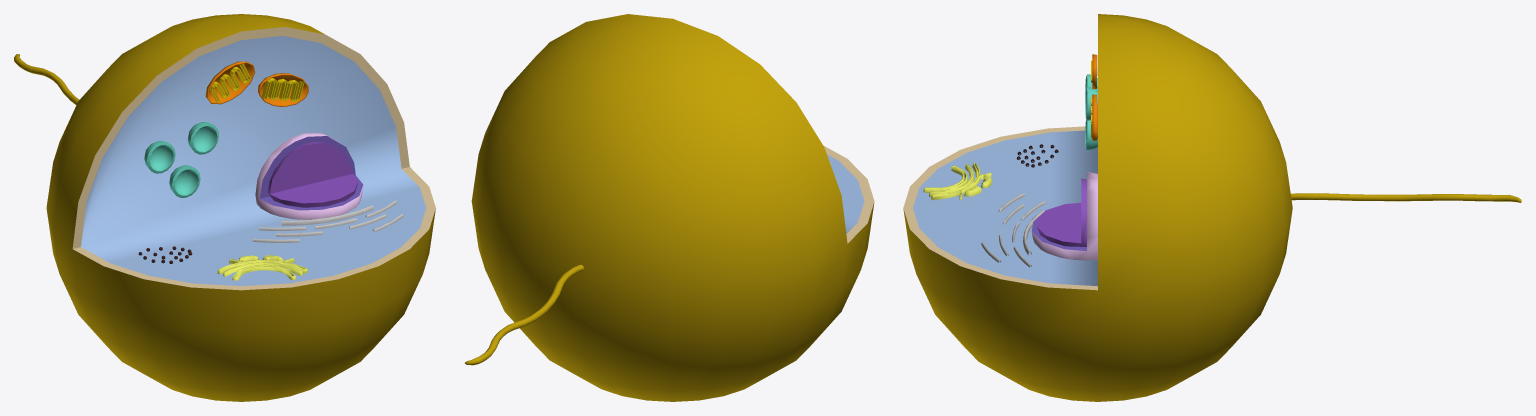
Rendered from VR27_animal cell.fbx.
3 renders of one model, left to right at view 1: azimuth 30°, elevation 25°; view 2: azimuth 150°, elevation 25°; view 3: azimuth 270°, elevation 25°, orthographic. The views are drawn at different scales.
Parts seen in each view (by area): view 1: Membrana Celular, group_4_ID2442, Mitochondria.041_ID2505.001, Vacuole.006_ID1968, Endoplasmatic reticukum, Golgi_Apparatus.005_ID2373; view 2: Membrana Celular; view 3: Membrana Celular, group_4_ID2442, Golgi_Apparatus.005_ID2373, Endoplasmatic reticukum, Vacuole.006_ID1968, Mitochondria.041_ID2505.001.
Part boxes in pixels (x1,y1,x2,y2): Membrana Celular: (14,14,435,401); group_4_ID2442: (255,133,363,219); Mitochondria.041_ID2505.001: (205,61,308,106); Vacuole.006_ID1968: (144,122,218,197); Endoplasmatic reticukum: (252,200,403,242); Golgi_Apparatus.005_ID2373: (217,255,307,280); Membrana Celular: (465,14,874,401); Membrana Celular: (903,14,1521,401); group_4_ID2442: (1031,172,1097,260); Golgi_Apparatus.005_ID2373: (923,163,992,200); Endoplasmatic reticukum: (981,193,1045,267); Vacuole.006_ID1968: (1085,74,1097,150); Mitochondria.041_ID2505.001: (1091,54,1097,140).
Size of the model in its own units: 351 by 351 by 557.
